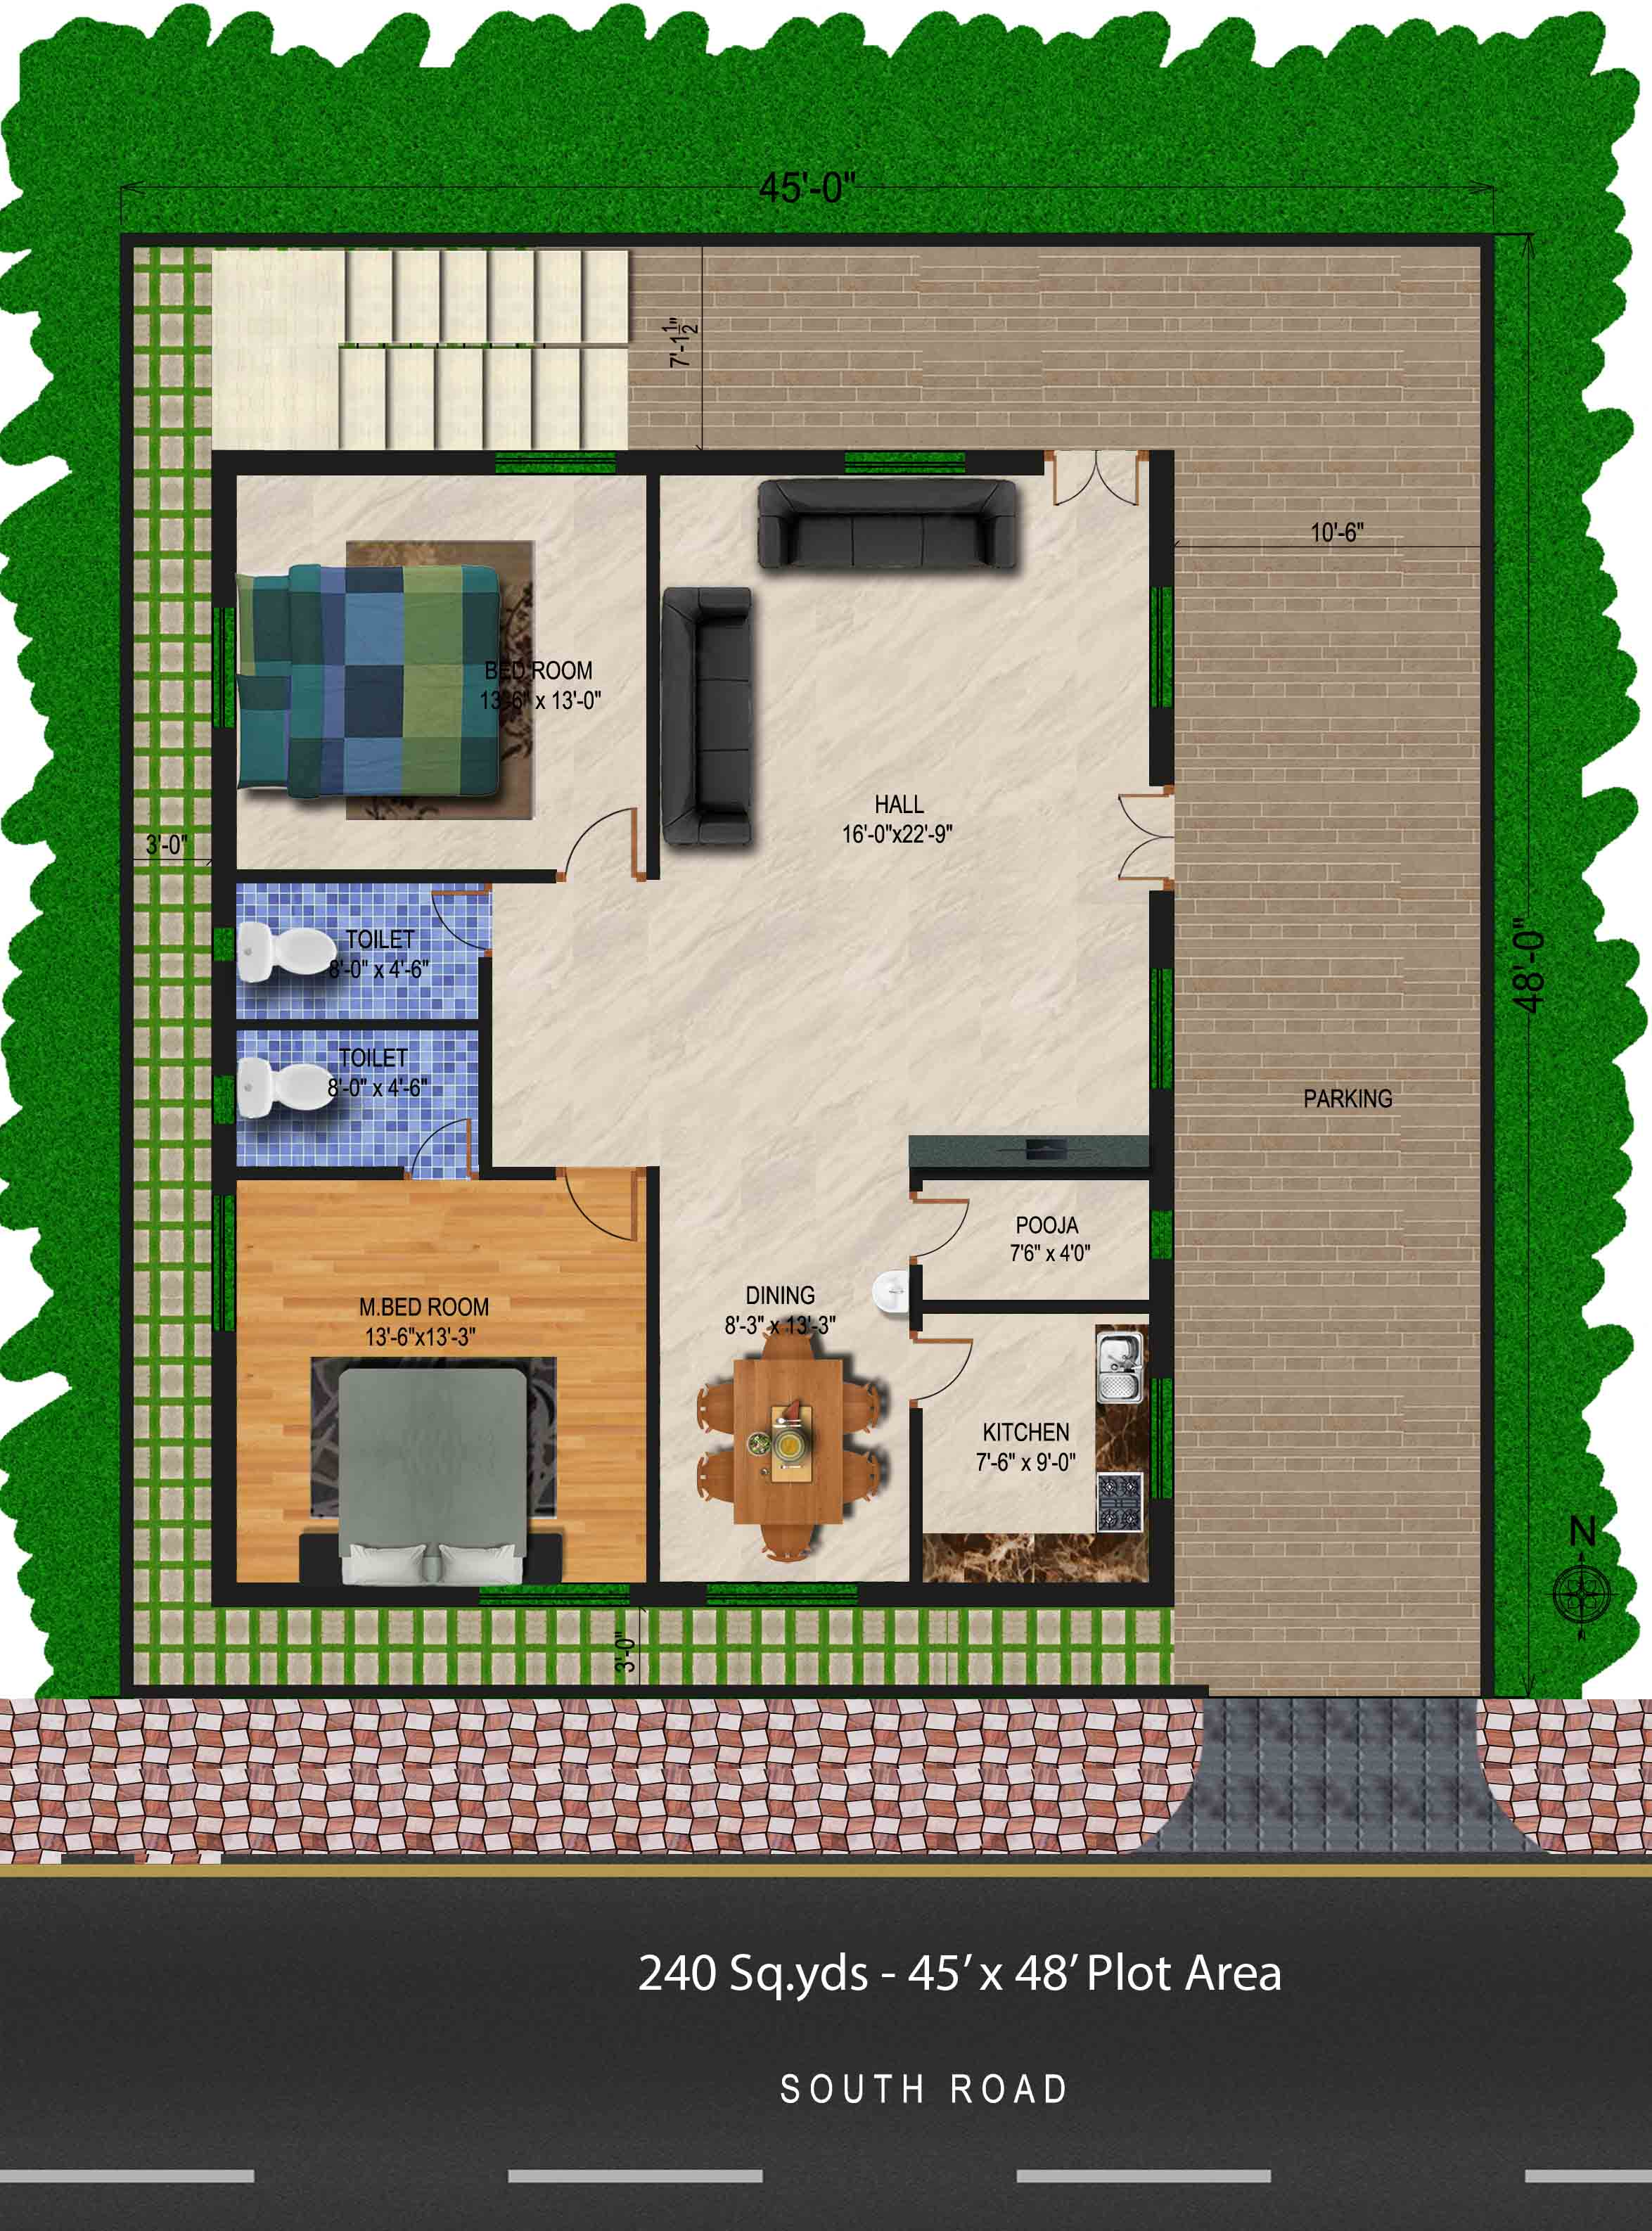door: (560, 788, 639, 866), (1111, 788, 1166, 885), (1048, 465, 1142, 517), (569, 1183, 642, 1246), (427, 887, 482, 956), (923, 1334, 979, 1400), (921, 1195, 977, 1261), (411, 1115, 474, 1168)
